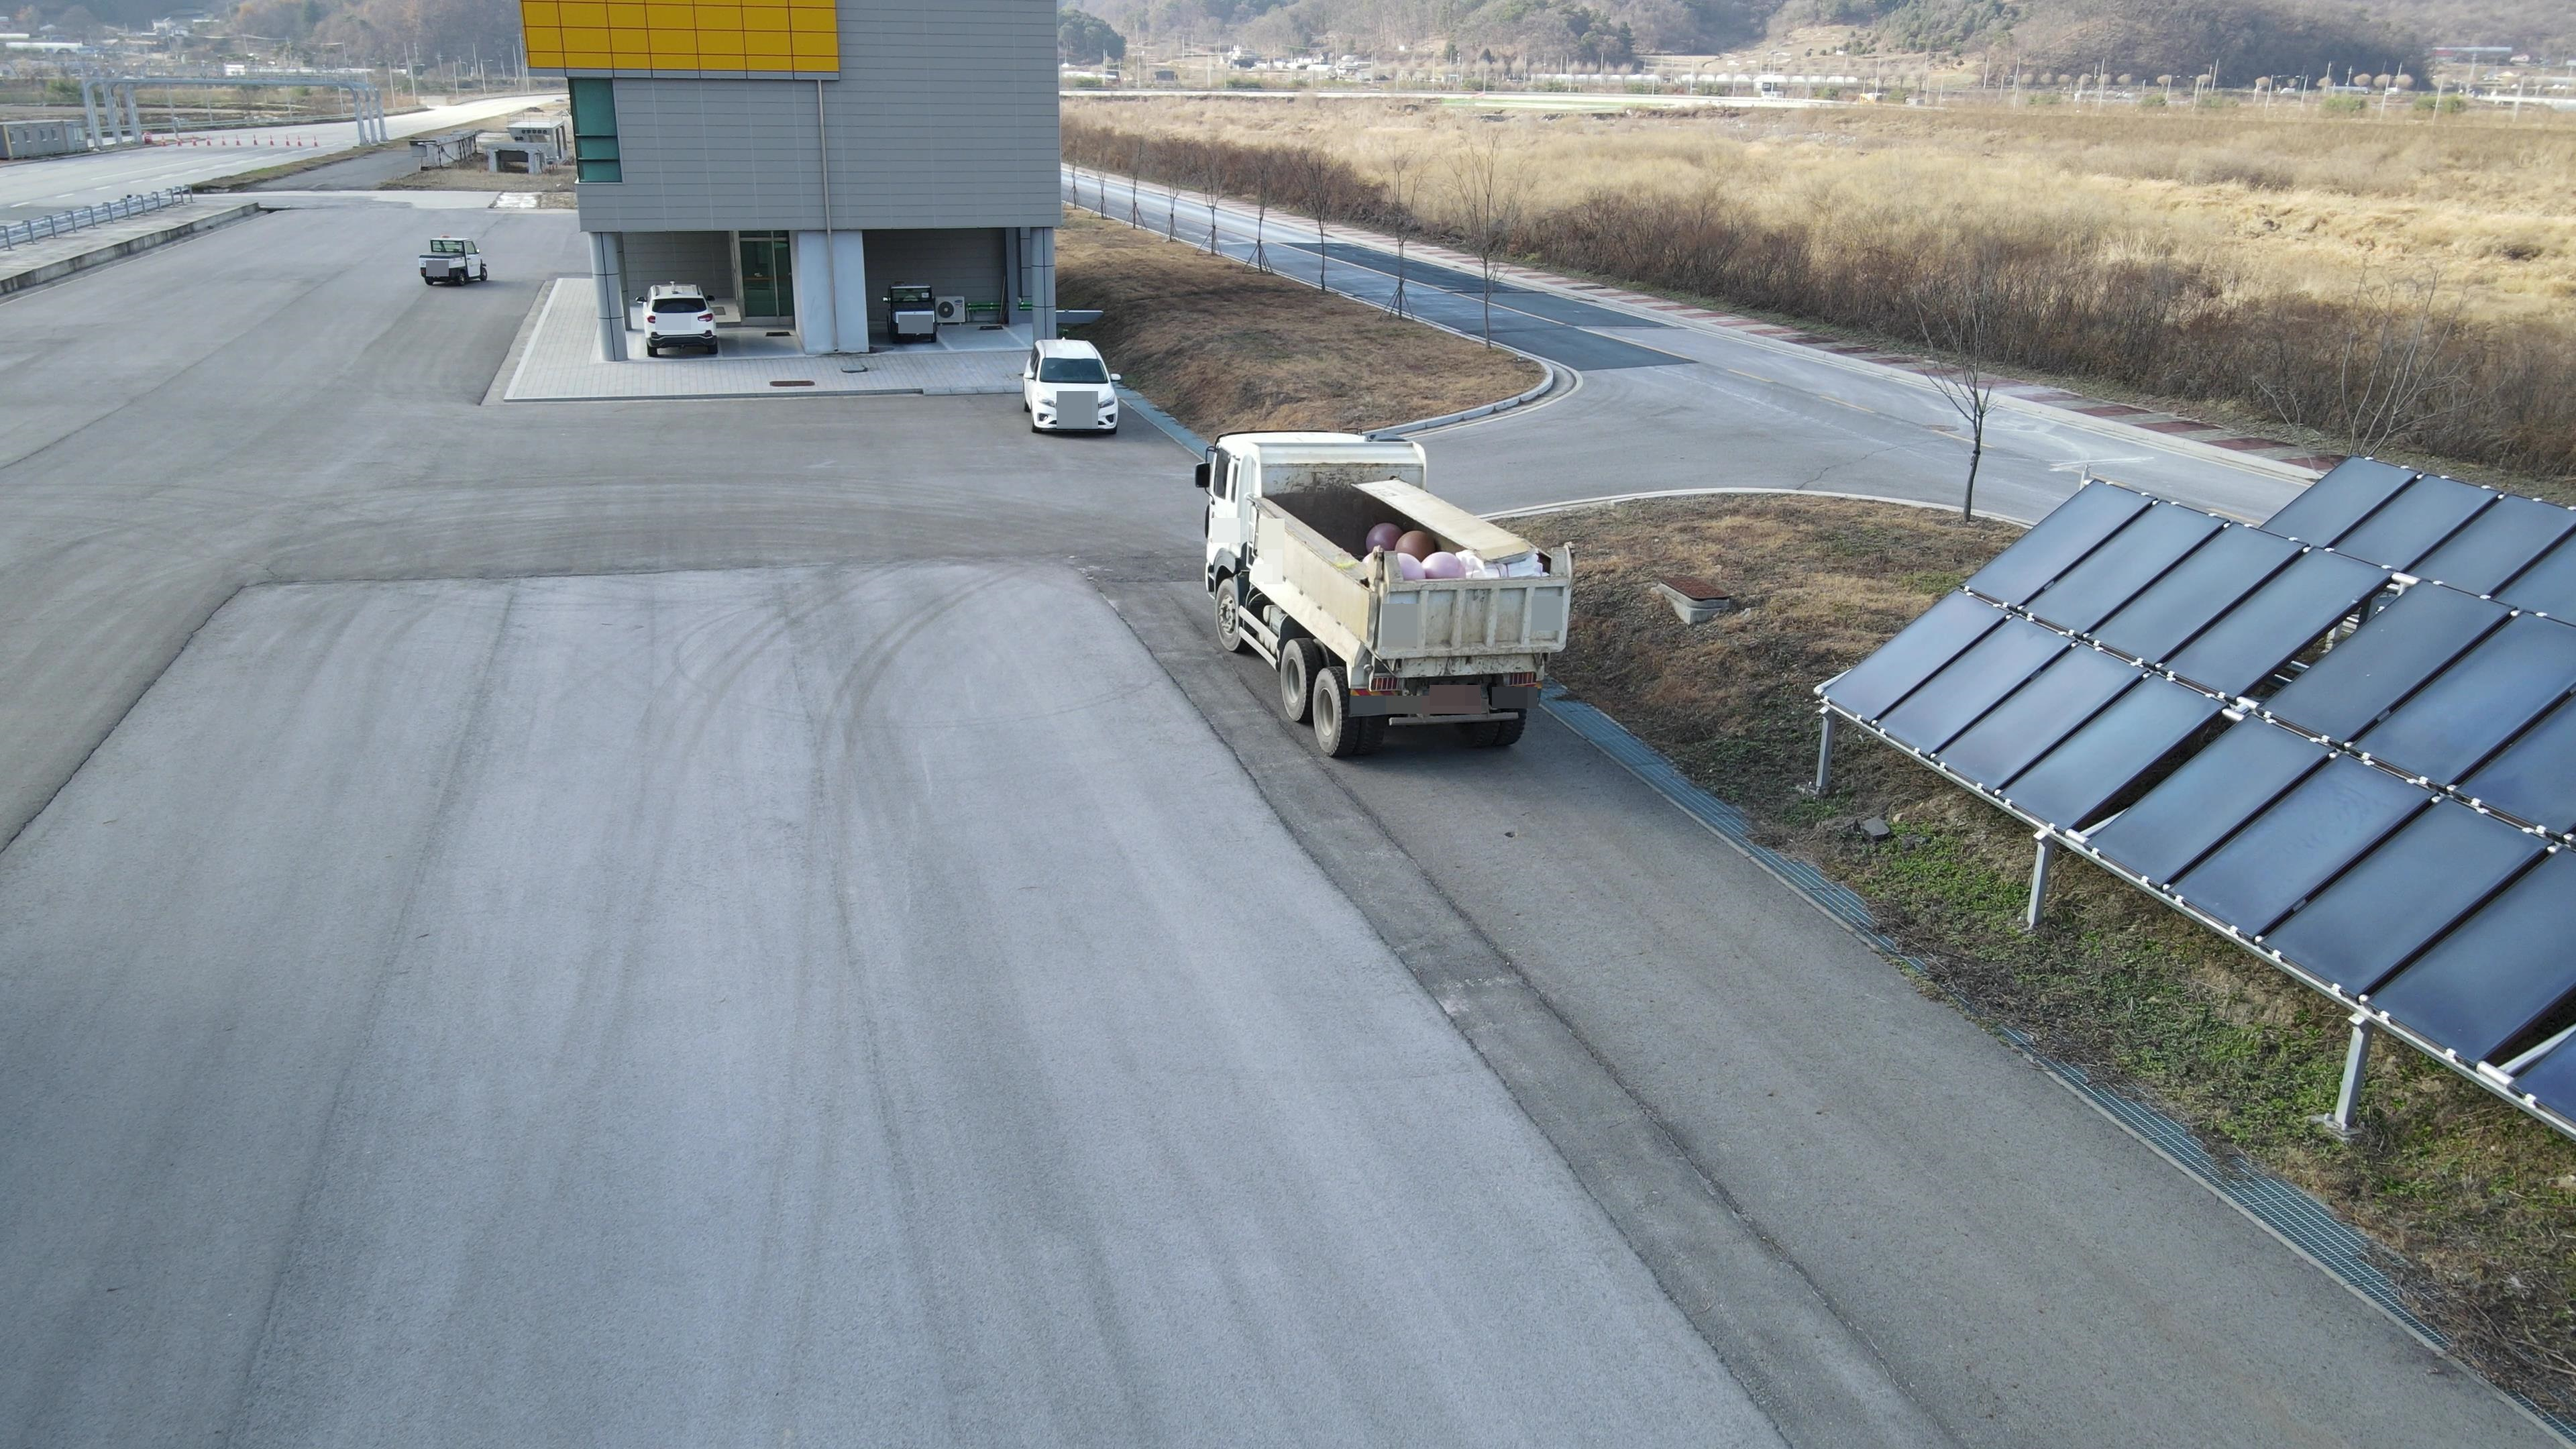불법차량: (1196, 432, 1575, 757)
